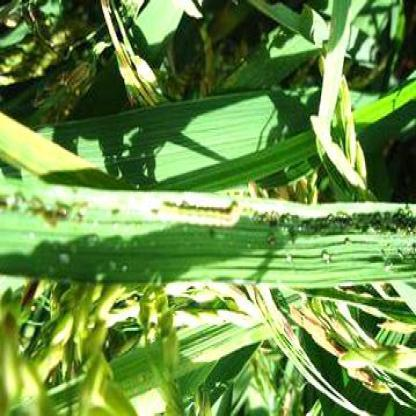leaf-folder: (146, 177, 254, 242)
